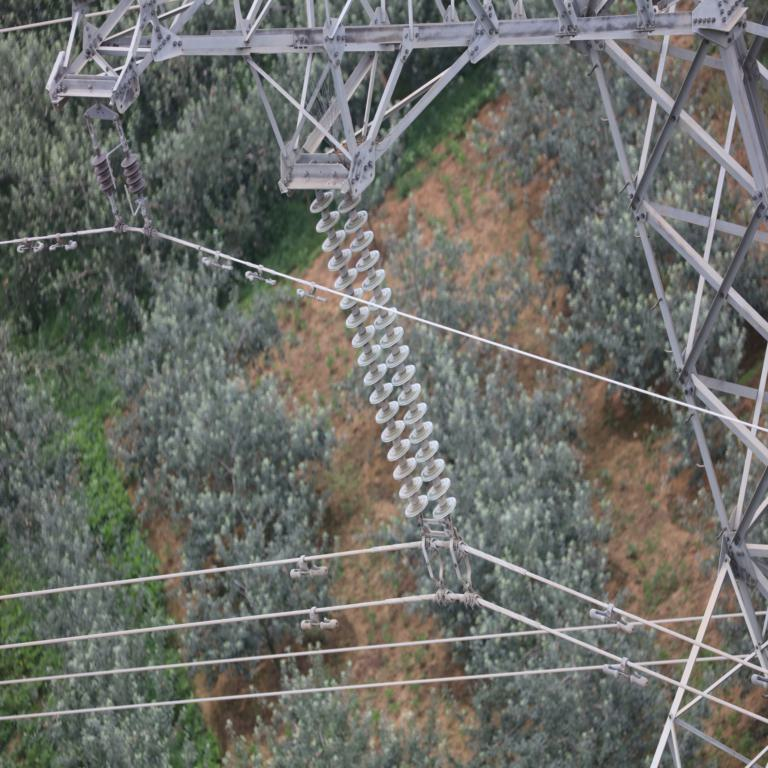nest: (338, 138, 374, 154)
